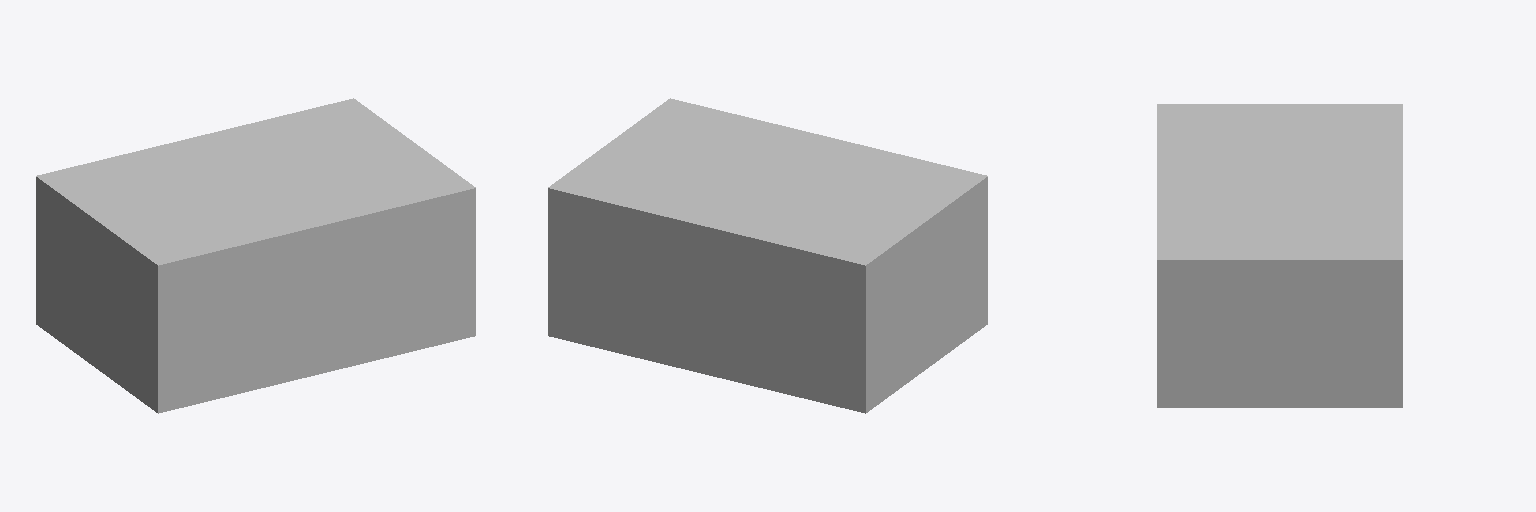
Rendered from FM_microwave.obj.
3 views of the same model, side by side, from view 1: azimuth 30°, elevation 25°; view 2: azimuth 150°, elevation 25°; view 3: azimuth 270°, elevation 25° (orthographic).
Parts seen in each view (by area): view 1: Microwave_Cube.002; view 2: Microwave_Cube.002; view 3: Microwave_Cube.002.
Boxes of the visible parts, <box> form: Microwave_Cube.002: <box>36,98,475,413</box>; Microwave_Cube.002: <box>548,98,987,413</box>; Microwave_Cube.002: <box>1157,104,1402,407</box>.
Bounding box in the file's own units: 0.9 × 0.4 × 0.6.